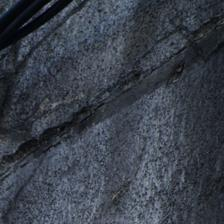Crack: (4, 25, 220, 181)
